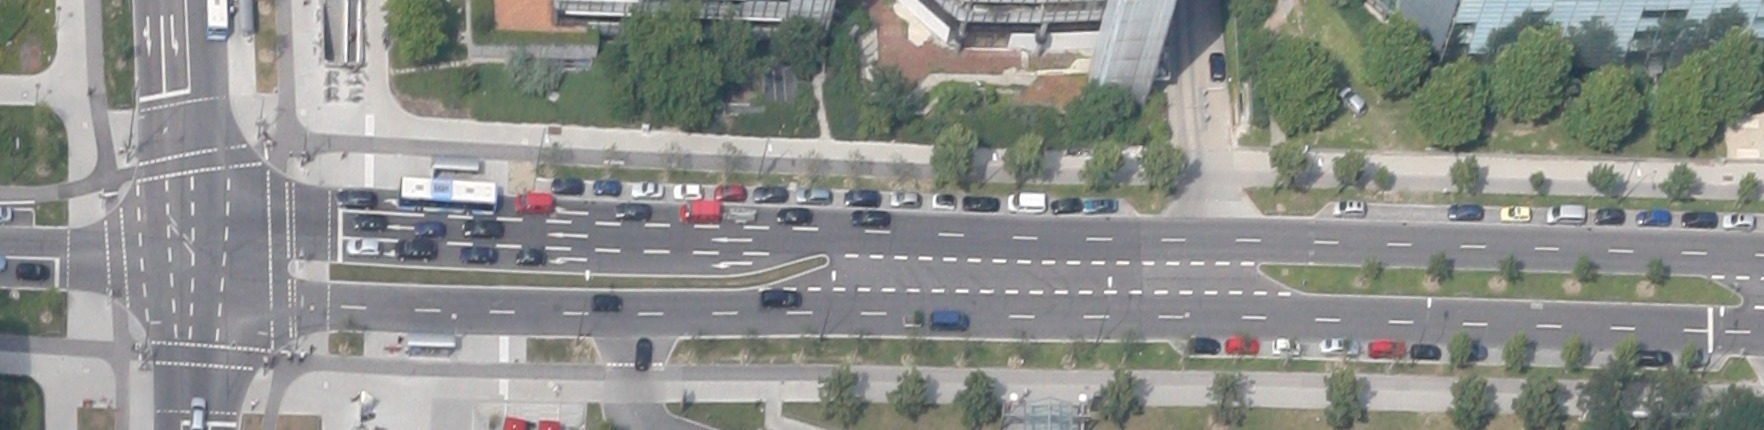car: (1335, 84, 1368, 117), (396, 238, 436, 261), (514, 192, 552, 215), (1546, 203, 1584, 225), (678, 201, 719, 222), (760, 289, 801, 308), (929, 310, 967, 330), (336, 187, 375, 207), (1007, 191, 1044, 212), (1318, 337, 1359, 355), (459, 245, 496, 265), (850, 208, 888, 227), (463, 220, 502, 238), (1680, 209, 1716, 229), (844, 188, 880, 207), (613, 201, 650, 220), (1367, 340, 1404, 358), (961, 194, 998, 212), (15, 262, 49, 281), (633, 337, 652, 371), (346, 236, 381, 256), (1446, 203, 1482, 221), (353, 213, 386, 232), (1332, 198, 1365, 217), (775, 207, 811, 224), (1224, 335, 1258, 353), (1633, 349, 1669, 366), (1635, 209, 1669, 226), (795, 187, 830, 204), (1083, 196, 1116, 214), (589, 293, 622, 311), (515, 247, 547, 265), (1721, 212, 1753, 230), (753, 185, 785, 201), (414, 220, 444, 238), (1189, 335, 1219, 353), (714, 183, 745, 201), (189, 395, 205, 429), (1498, 204, 1530, 221), (631, 181, 663, 198), (1410, 342, 1440, 359), (1593, 207, 1623, 224), (551, 177, 582, 194), (1271, 337, 1299, 355), (1052, 196, 1080, 214), (672, 182, 700, 200), (592, 179, 620, 196), (889, 191, 919, 206), (931, 191, 954, 210), (1209, 53, 1224, 81), (728, 207, 754, 222), (902, 313, 922, 326)
